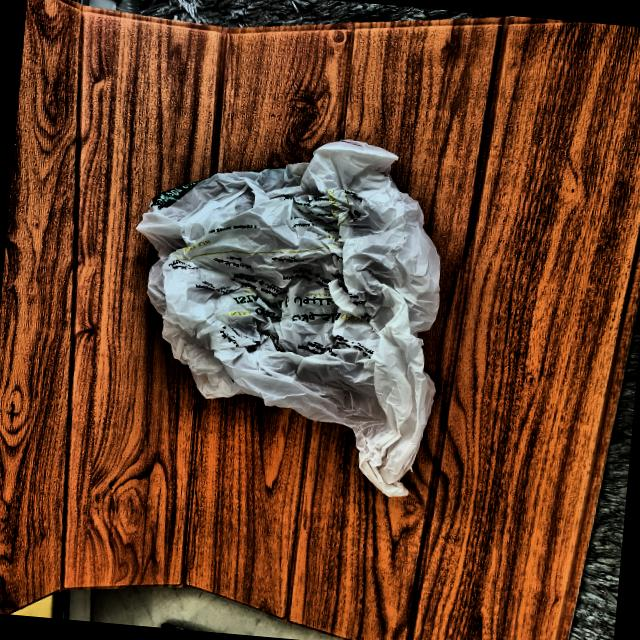plastic bag: (118, 120, 452, 499)
